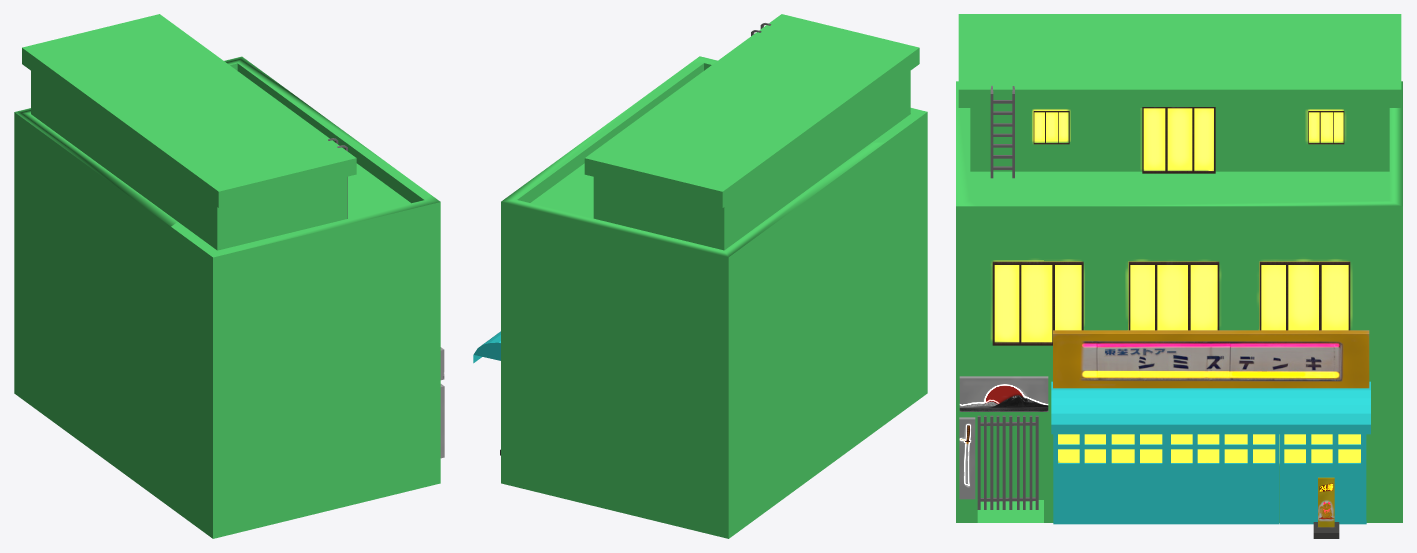
The model's file is дом егора не запак (2).fbx.
3 renders of one model, left to right at view 1: azimuth 30°, elevation 25°; view 2: azimuth 150°, elevation 25°; view 3: azimuth 270°, elevation 25°, orthographic. The views are drawn at different scales.
Visible parts, largest first — view 1: окна; view 2: окна; view 3: окна.
Part boxes in pixels (x1,y1,x2,y2): окна: (14, 14, 444, 538); окна: (473, 14, 927, 538); окна: (956, 14, 1402, 538).
Size of the model in its own units: 822 by 1009 by 1049.
